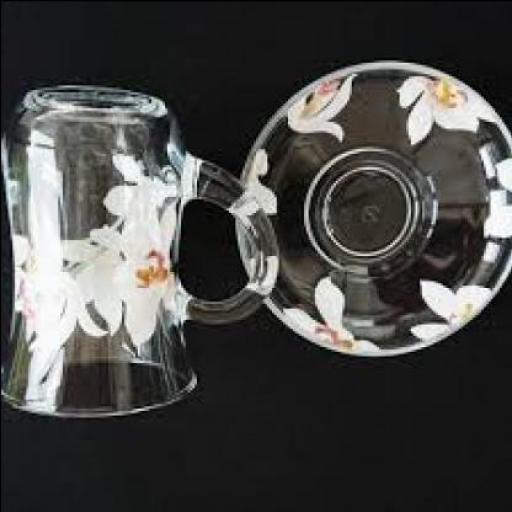glass: (2, 86, 282, 419), (236, 60, 511, 358)
